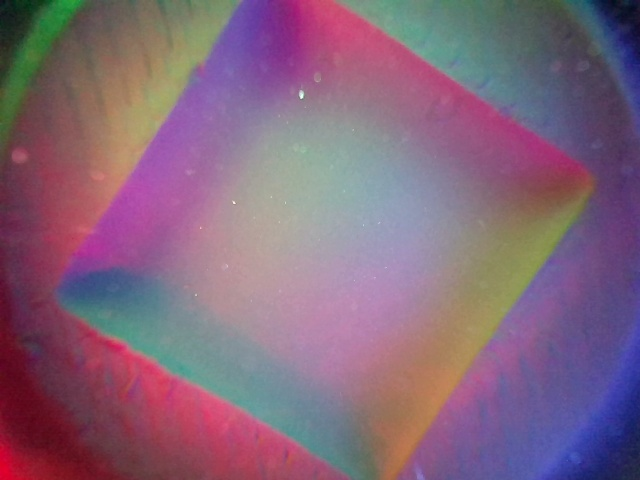contact: (62, 0, 591, 479)
